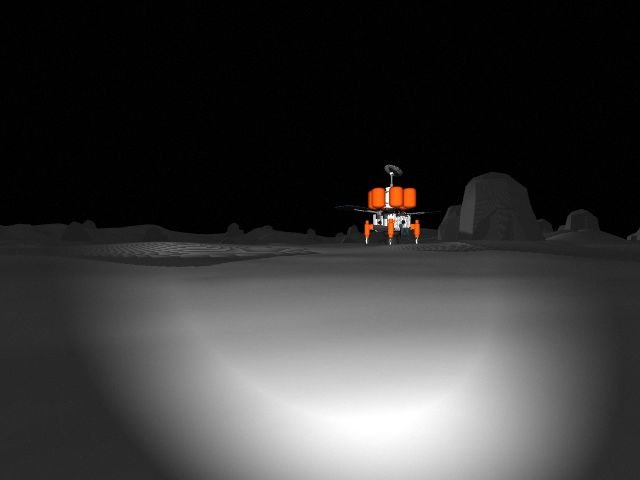homebase: (334, 162, 447, 249)
